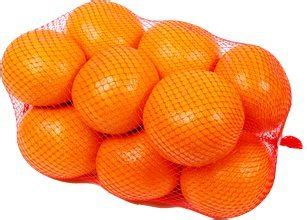orange: (144, 68, 249, 166), (179, 134, 276, 220), (71, 47, 160, 138), (210, 44, 292, 134), (3, 29, 87, 107), (15, 107, 98, 181), (96, 132, 179, 204), (141, 19, 220, 72), (66, 1, 144, 52)
